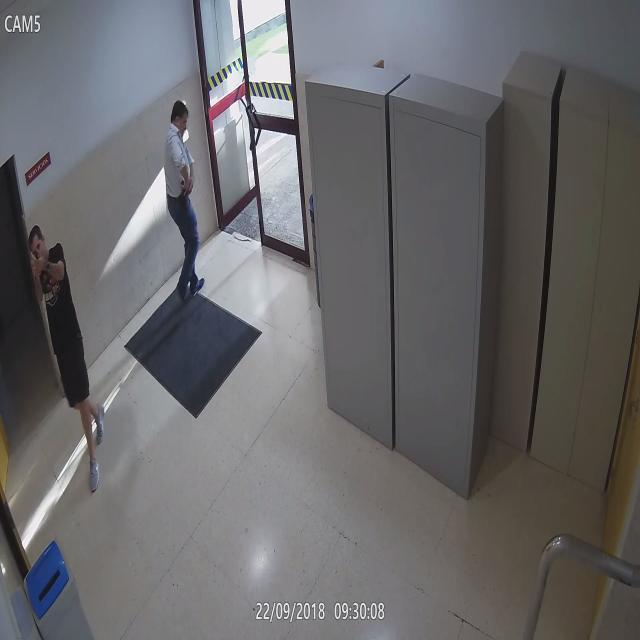Gun: (24, 248, 44, 287)
